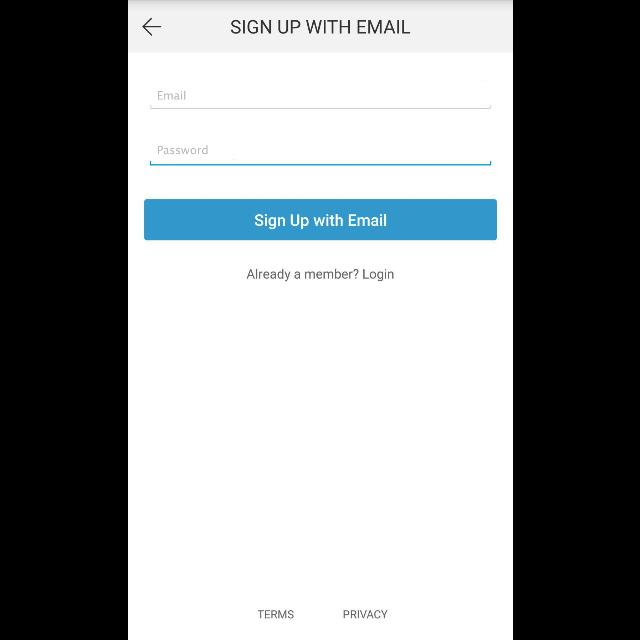icon: (142, 18, 160, 36)
input: (149, 146, 491, 166), (150, 91, 490, 109)
text: (230, 20, 410, 34), (245, 268, 392, 282), (158, 146, 206, 154), (343, 610, 387, 618), (257, 610, 293, 618), (157, 90, 185, 100)
textbutton: (144, 200, 496, 240)
toolbar: (128, 1, 512, 53)
